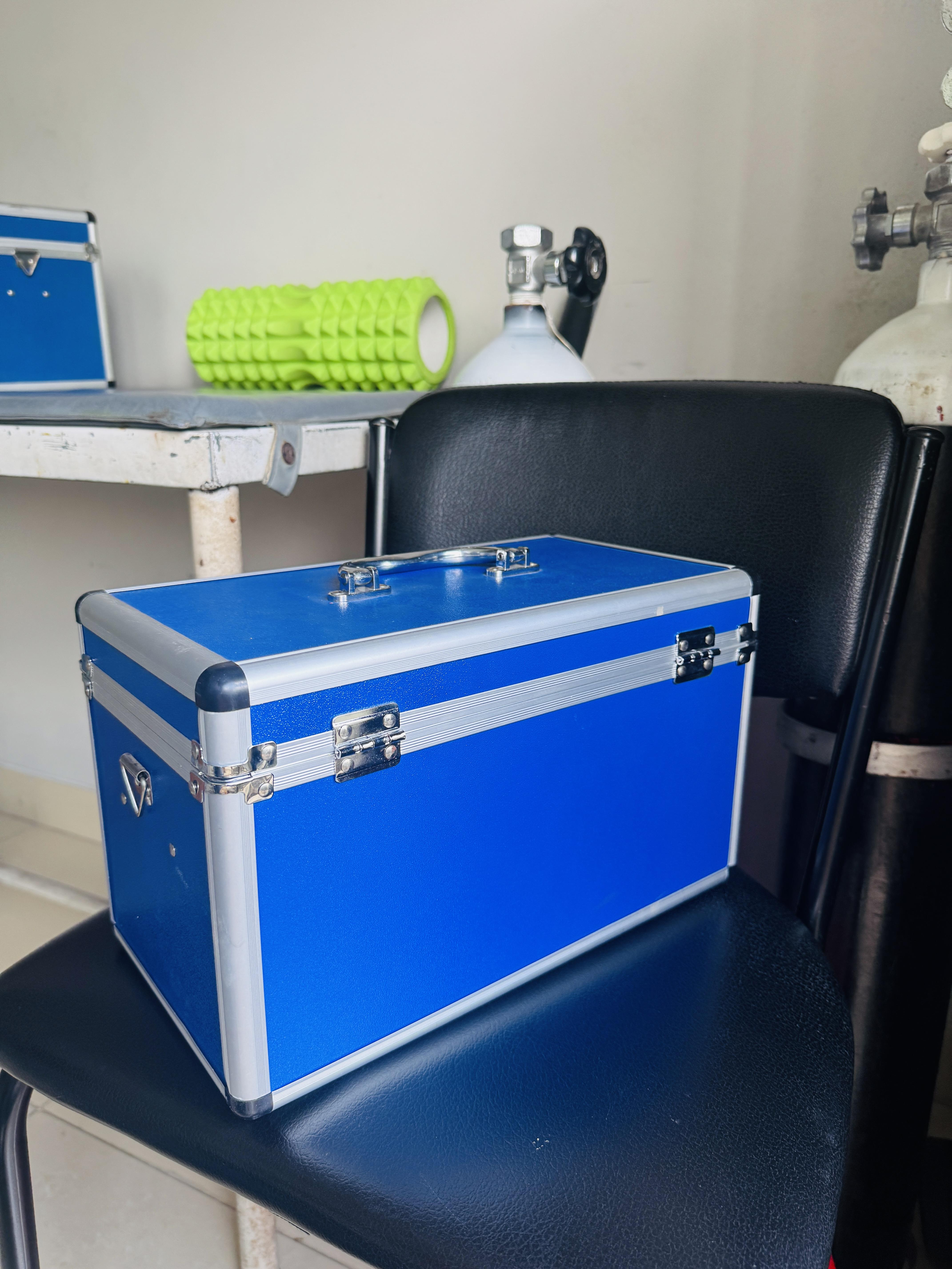FirstAidBox: (50, 517, 780, 1131)
